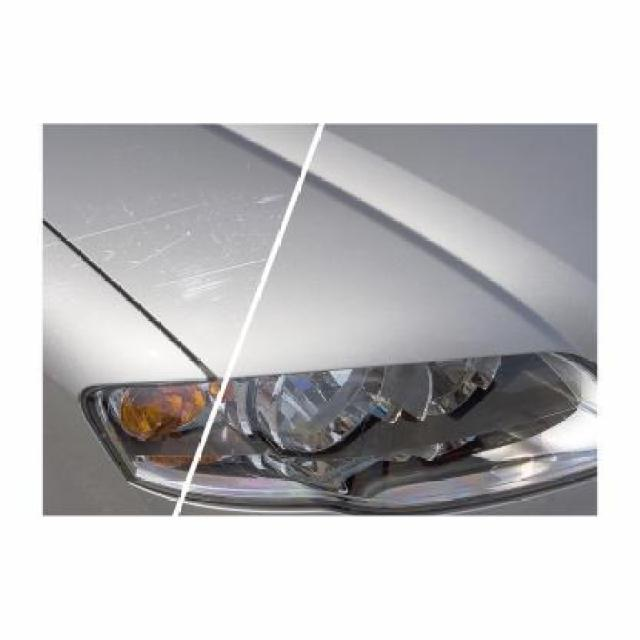scratch: (72, 200, 346, 306)
